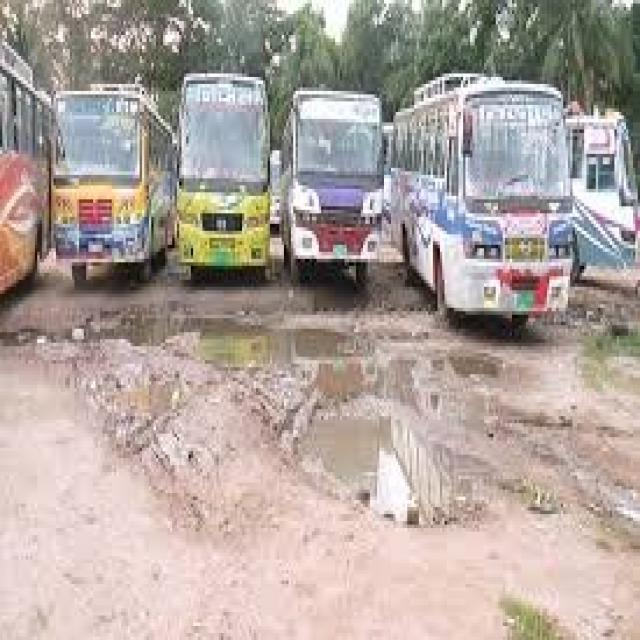bus: (388, 77, 578, 327), (47, 56, 167, 283), (172, 45, 278, 294), (281, 58, 391, 286), (0, 39, 50, 302), (571, 105, 640, 295)
